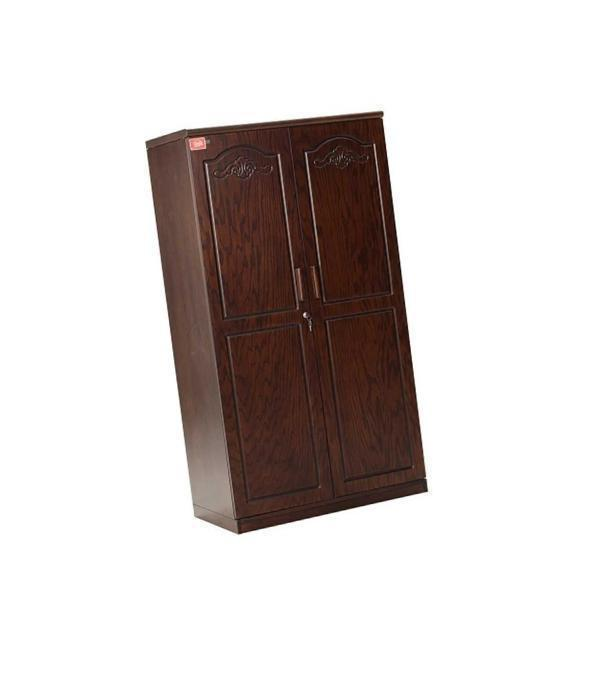Armario: (136, 107, 440, 533)
